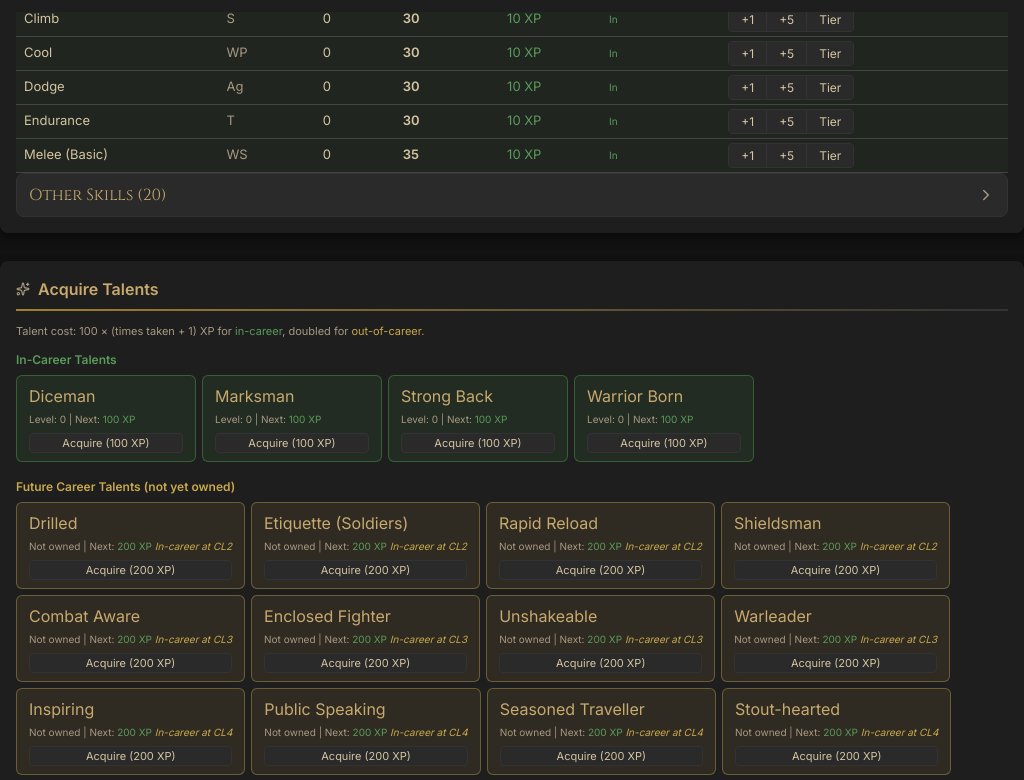
it: AdvancementPage tooltip behavior › clicking a talent name opens a tooltip with correct content (Req 1.1)
This screenshot has width=1024, height=780.
Note: "Marksman" is a career talent for Soldier level 1, exists in TALENT_DB
What coordinates should you click on to do the following:
click the button "Marksman"
I would click on:
 (292, 396)
Its box is x1=215 y1=384 x2=369 y2=408.
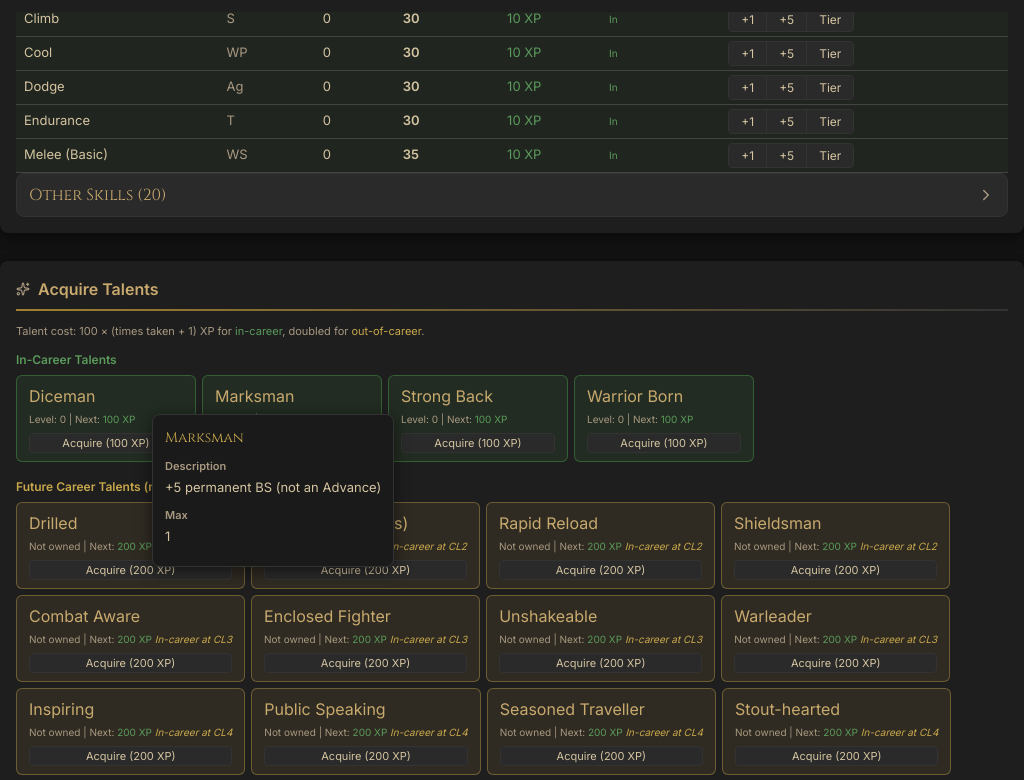
Now the tooltip "Marksman Description +5 permanent BS (not an Advance) Max 1" is shown, box x1=152 y1=414 x2=394 y2=567
Now the tooltip shows "Marksman", box x1=165 y1=428 x2=244 y2=447
Now the tooltip shows "+5 permanent BS (not an Advance)", box x1=165 y1=478 x2=381 y2=494
